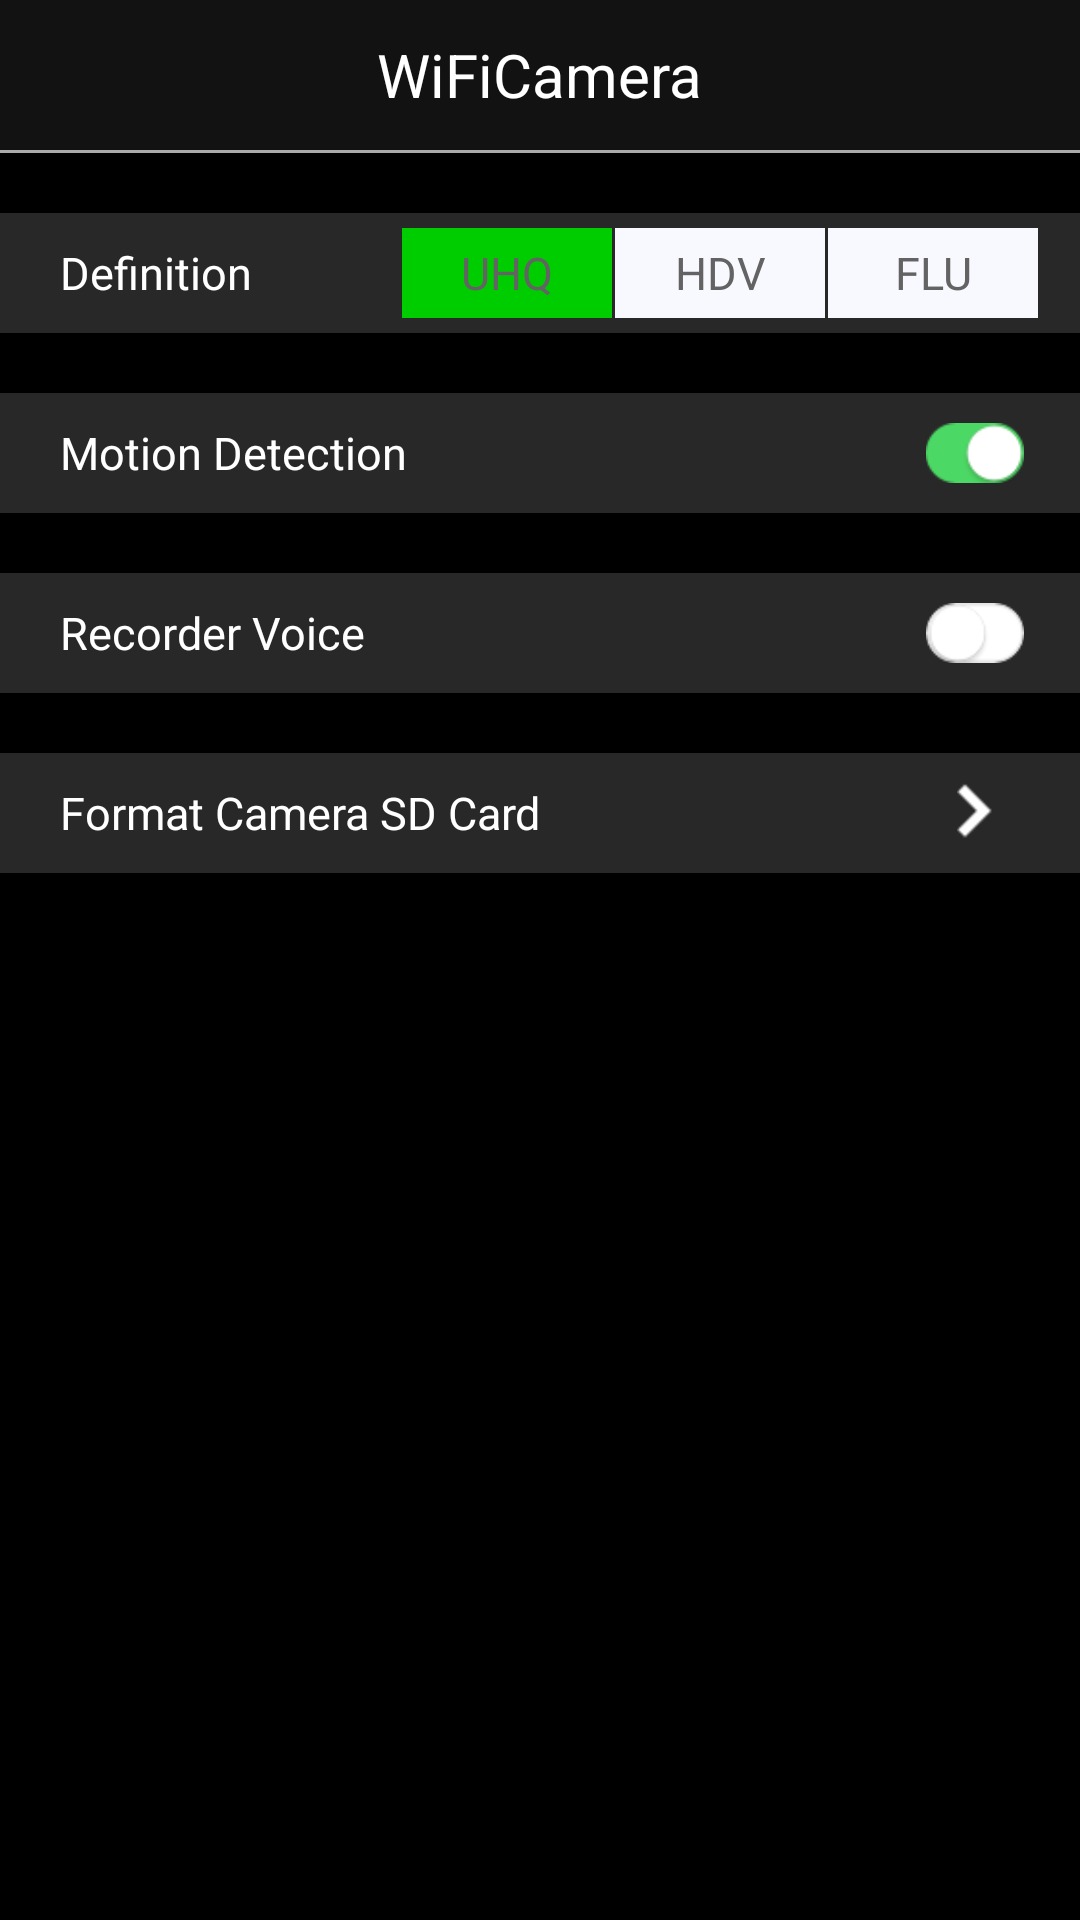

Where icons sit on this 1080px×1920px app screen, as (x1, y1, x2, y2):
off switch: (926, 603, 1024, 663)
on switch: (926, 423, 1024, 483)
right in: (957, 784, 992, 837)
